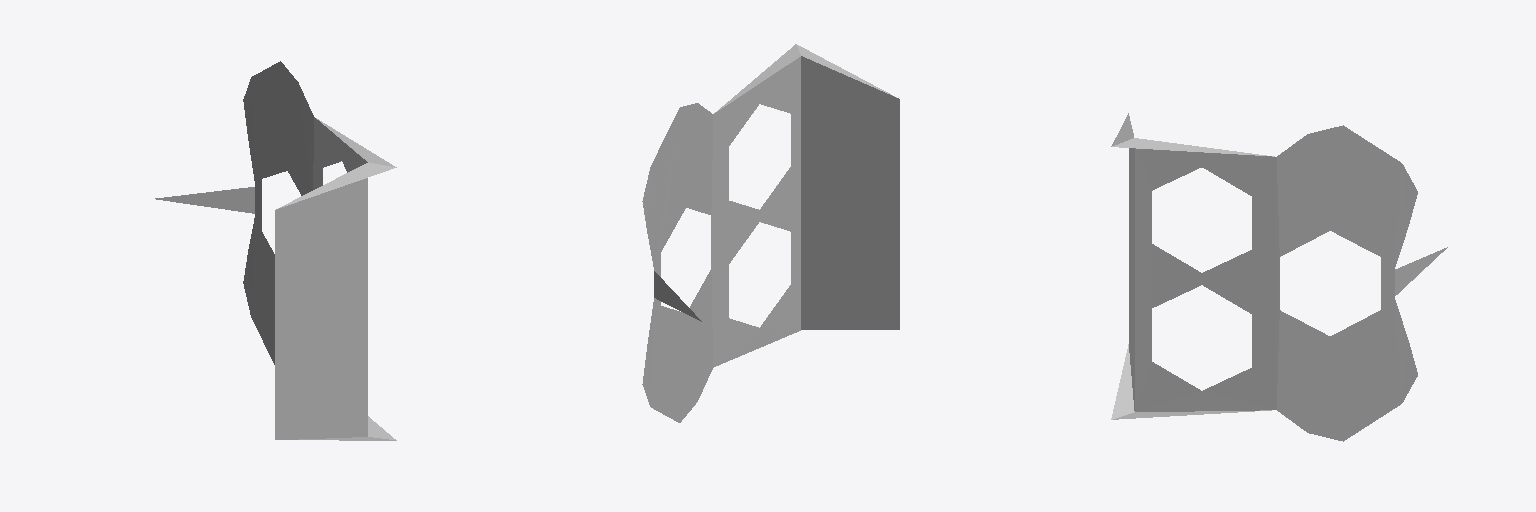
Rendered from rearbody.obj.
3 views of the same model, side by side, from view 1: azimuth 30°, elevation 25°; view 2: azimuth 150°, elevation 25°; view 3: azimuth 270°, elevation 25° (orthographic).
Visible parts, largest first — view 1: rearbody; view 2: rearbody; view 3: rearbody.
Part boxes in pixels (left/top/right/bottom): rearbody: left=155, top=61, right=396, bottom=440; rearbody: left=642, top=44, right=899, bottom=422; rearbody: left=1111, top=113, right=1447, bottom=441.
Bounding box in the file's own units: 0.1133 × 0.302 × 0.2924.